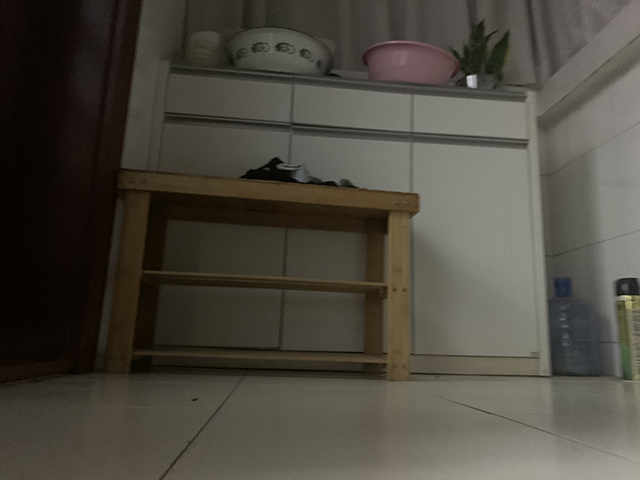cabinet: (144, 58, 553, 380)
